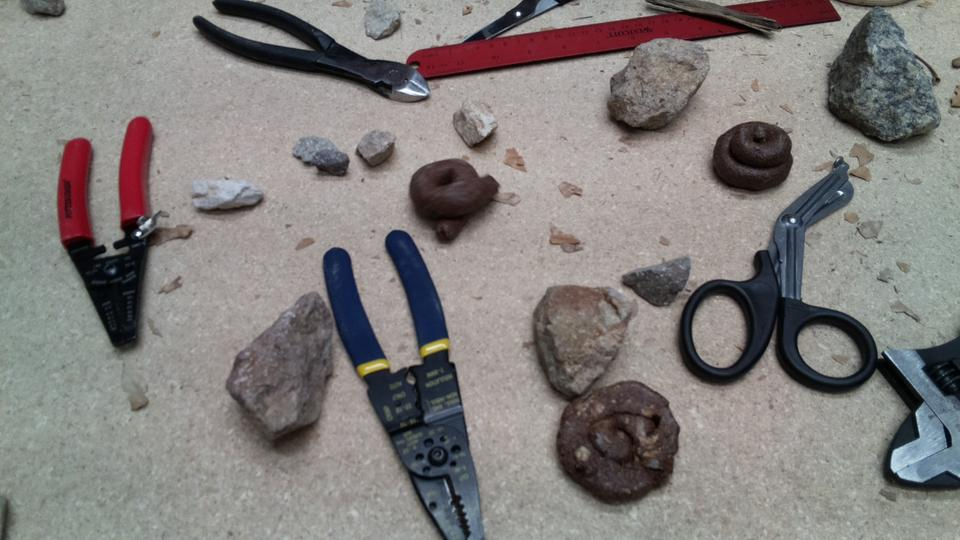poop: (551, 378, 683, 509), (408, 152, 502, 243), (706, 118, 796, 193)
